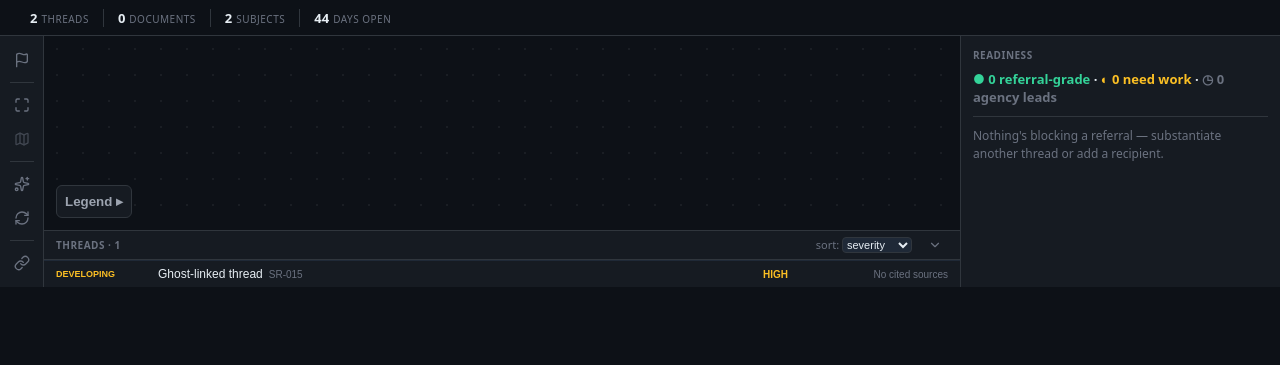
Test: InvestigateTab Thread Path Mode › a thread whose only subject is NOT a Case Map node shows the no-path note (no whole-map dim)
This screenshot has width=1280, height=365.
Click the button with aria-label "thread row Ghost-linked thread" at [86, 274], box [44,260,960,287]
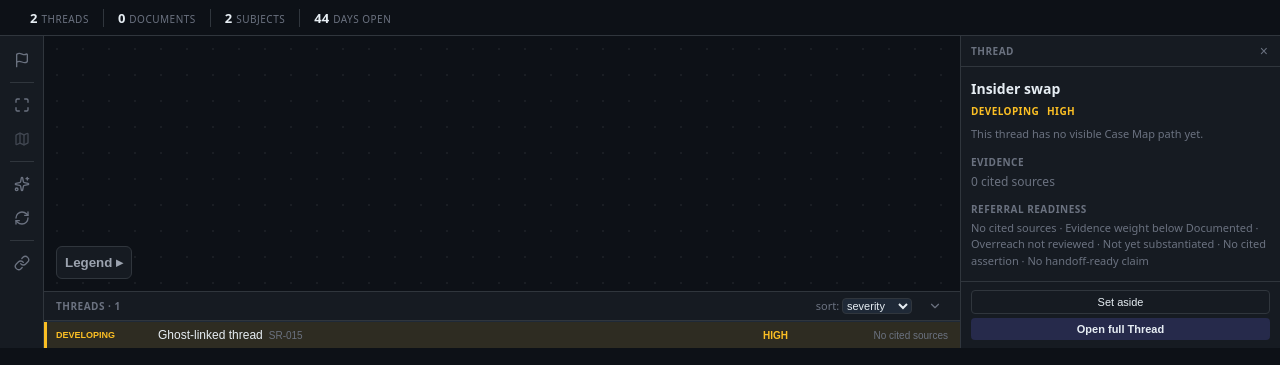
Expected: the text "This thread has no visible Case Map path yet." is shown, [971,126,1203,141]
